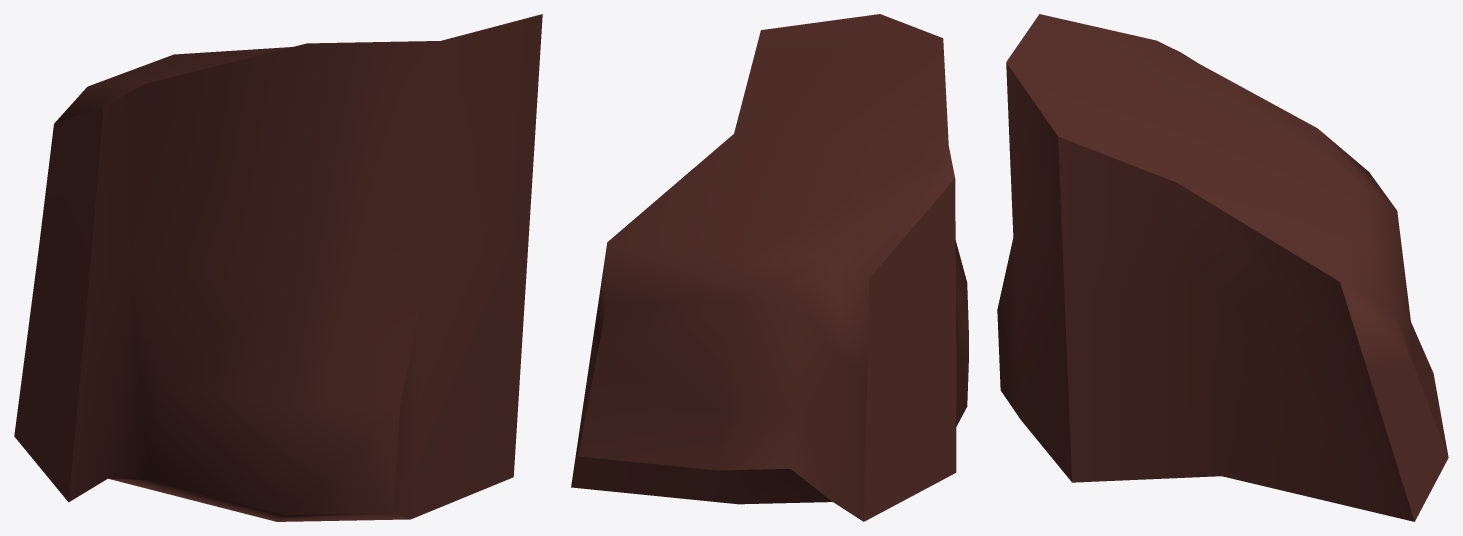
The model's file is SM_small_rock_H.fbx.
The picture shows the model from 3 angles, left to right: view 1: azimuth 30°, elevation 25°; view 2: azimuth 150°, elevation 25°; view 3: azimuth 270°, elevation 25°; orthographic projection. The views are drawn at different scales.
Visible parts, largest first — view 1: polySurface65; view 2: polySurface65; view 3: polySurface65.
Part boxes in pixels (x1=…): polySurface65: x1=14, y1=14, x2=542, y2=521; polySurface65: x1=571, y1=14, x2=968, y2=521; polySurface65: x1=997, y1=14, x2=1448, y2=521.
Bounding box in the file's own units: 729 × 895 × 909.
